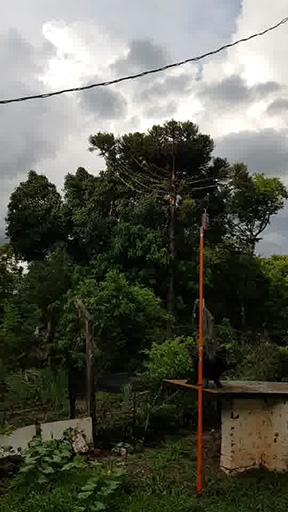Detector_Tensao_Contato: (201, 206, 210, 231)
Vara_Manobra: (197, 230, 204, 496)
